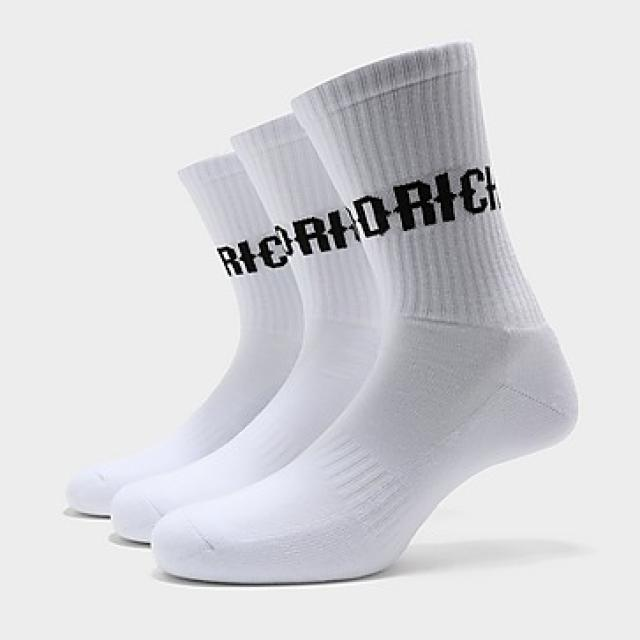sock: (148, 39, 578, 584), (64, 148, 304, 518)
